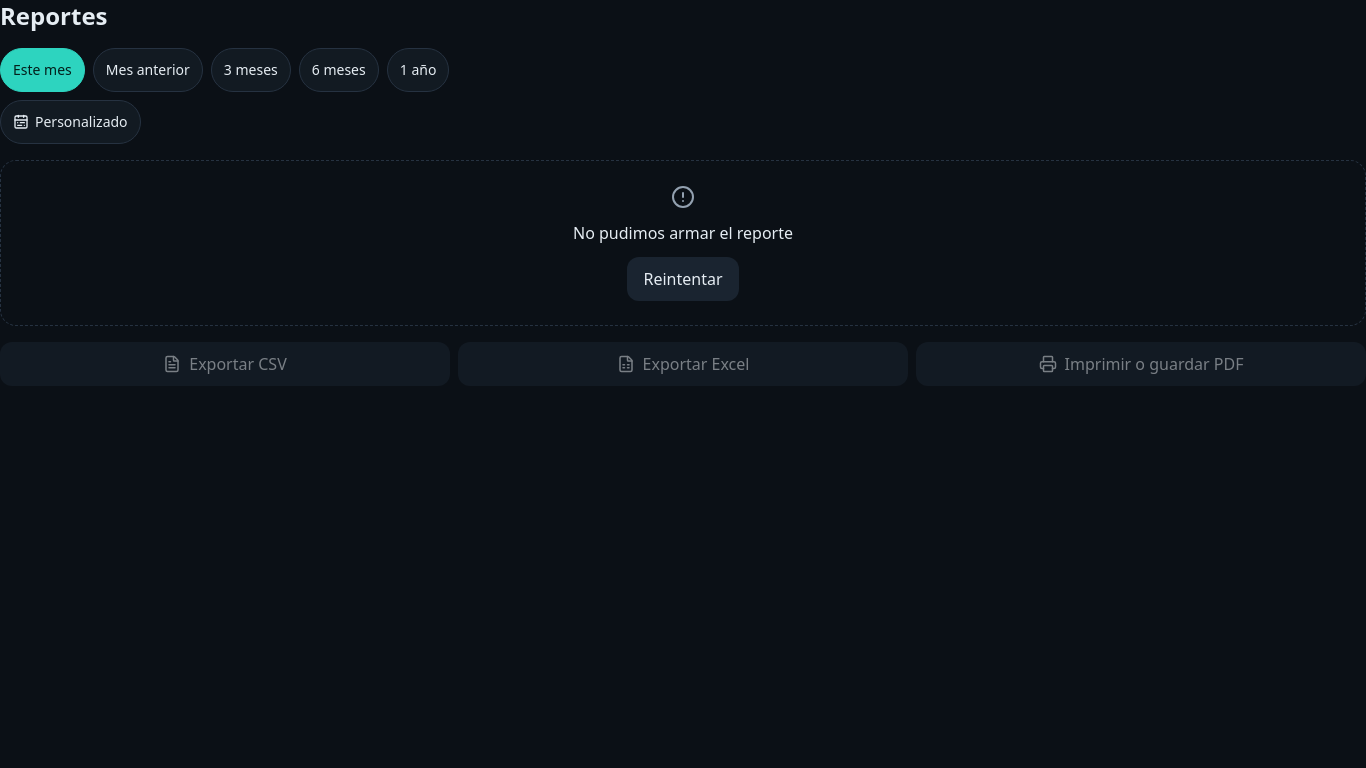
Test: ReportsPage › shows the error with "Reintentar" and recovers
Expected: the text "No pudimos armar el reporte" is shown, x1=573 y1=221 x2=793 y2=245
Click the button "Reintentar" at (683, 279), box x1=628 y1=257 x2=738 y2=301
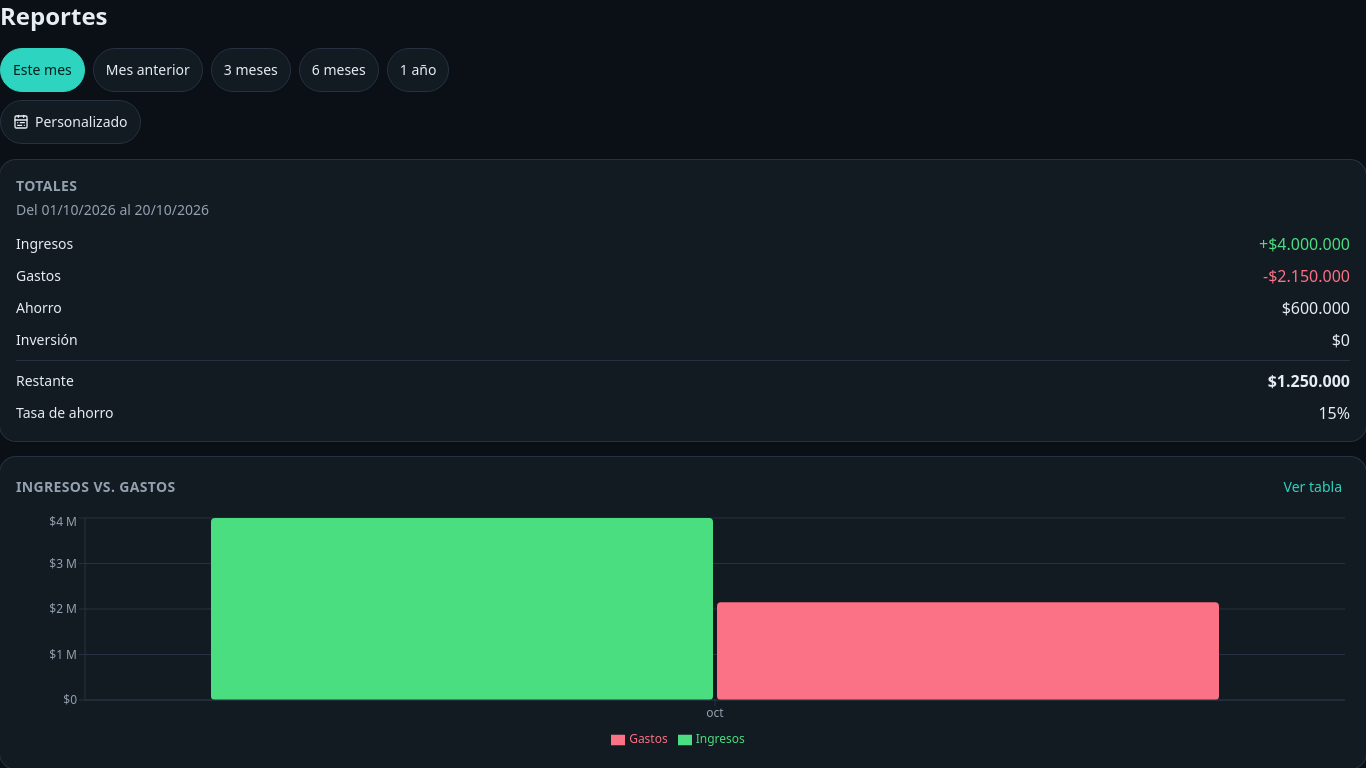
Expected: the text "+$4.000.000" is shown, x1=1259 y1=233 x2=1350 y2=255
